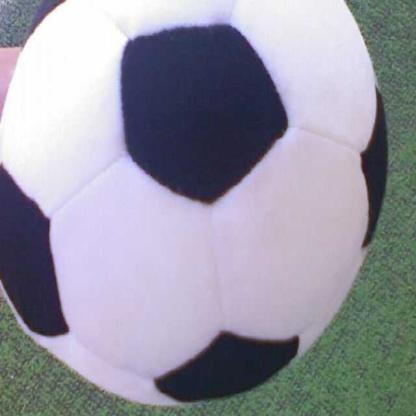ball: (0, 0, 389, 407)
